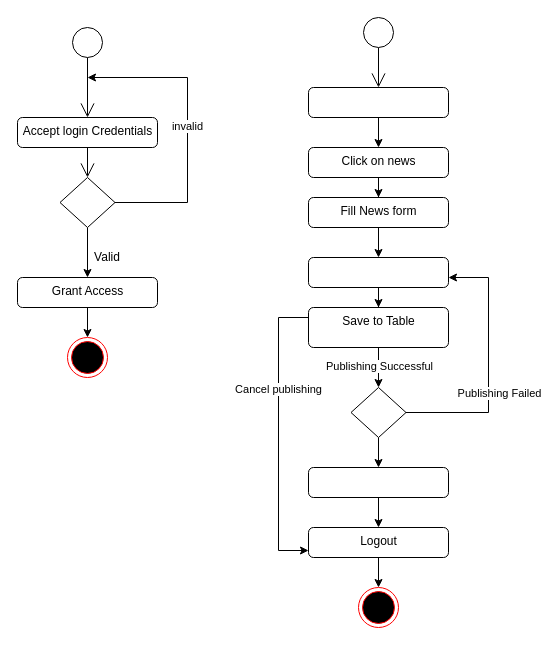
The diagram is 558 pixels wide and 645 high, and some of its shapes have lost their labels. Each missing label, with the centre of its shape:
"Display All News" goes at (x=378, y=482).
"Login" goes at (x=378, y=102).
"Submit form" goes at (x=378, y=272).
